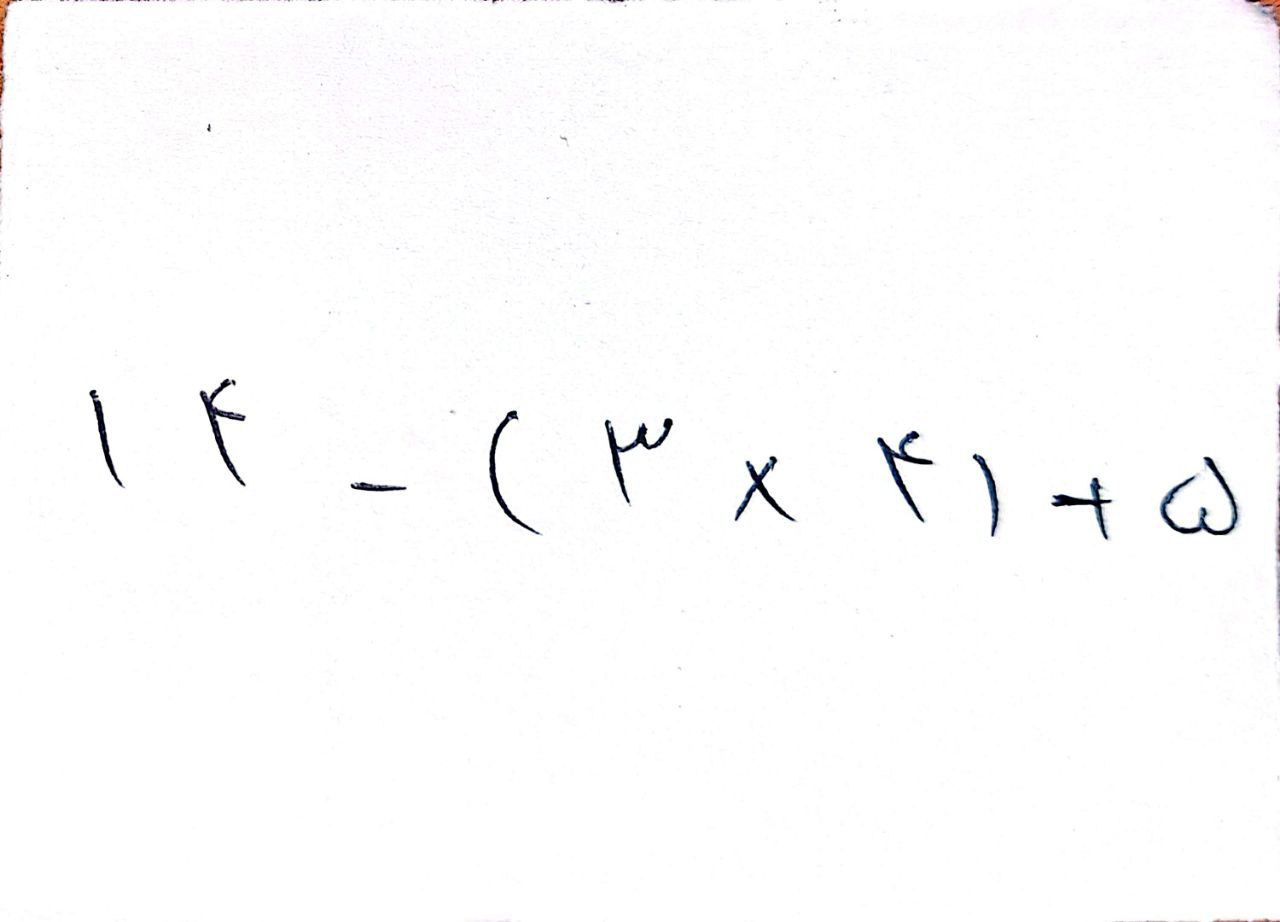character: (488, 406, 545, 539), (193, 373, 257, 488), (1156, 457, 1241, 537), (601, 413, 675, 504), (875, 427, 935, 527), (724, 452, 801, 524), (87, 386, 131, 495), (1048, 477, 1119, 539), (971, 450, 1004, 537), (346, 480, 409, 496)
